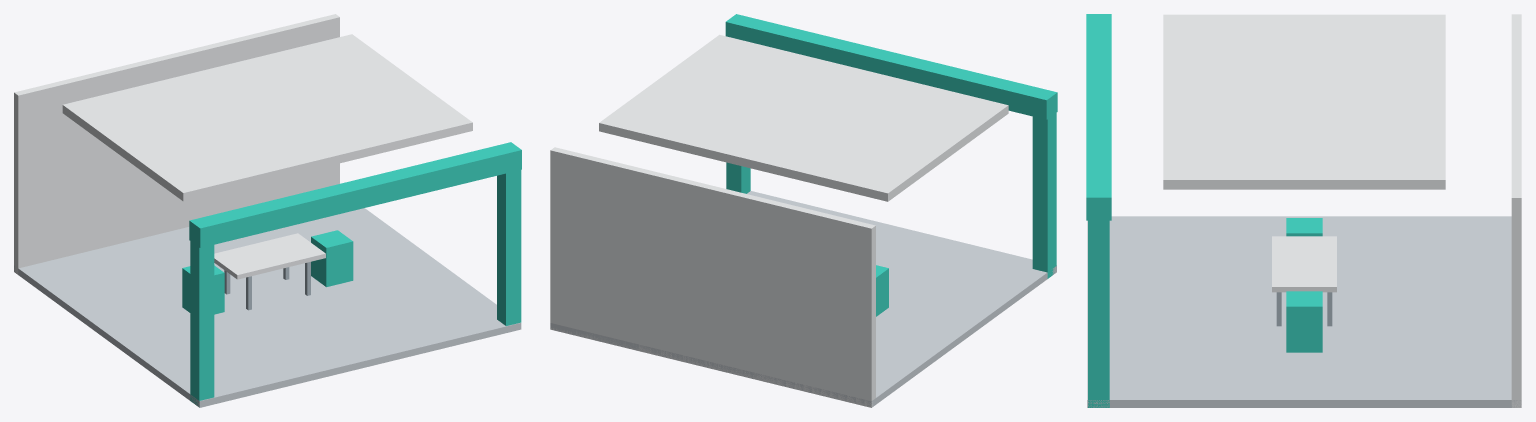
3 views of the same model, side by side, from view 1: azimuth 30°, elevation 25°; view 2: azimuth 150°, elevation 25°; view 3: azimuth 270°, elevation 25° (orthographic). The views are drawn at different scales.
Parts seen in each view (by area): view 1: Exhibition Booth Concept; view 2: Exhibition Booth Concept; view 3: Exhibition Booth Concept.
Boxes of the visible parts, left/top/right/bottom form: Exhibition Booth Concept: left=14, top=14, right=521, bottom=407; Exhibition Booth Concept: left=550, top=14, right=1057, bottom=407; Exhibition Booth Concept: left=1086, top=14, right=1521, bottom=407.
Size of the model in its own units: 6 by 3.34 by 6.02.
